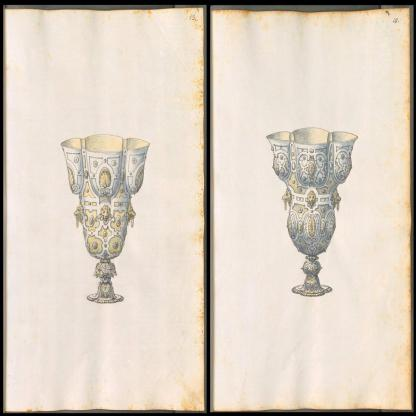vase: (266, 124, 358, 296), (60, 131, 150, 302)
